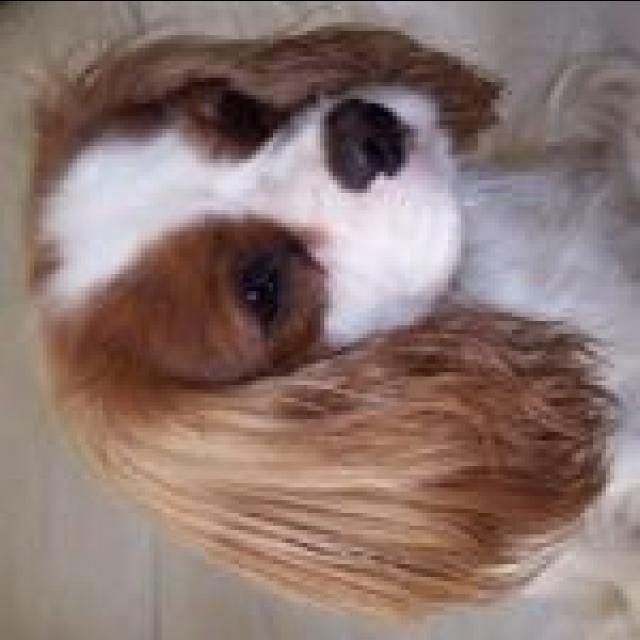blenheim_spaniel: (25, 22, 636, 628)
